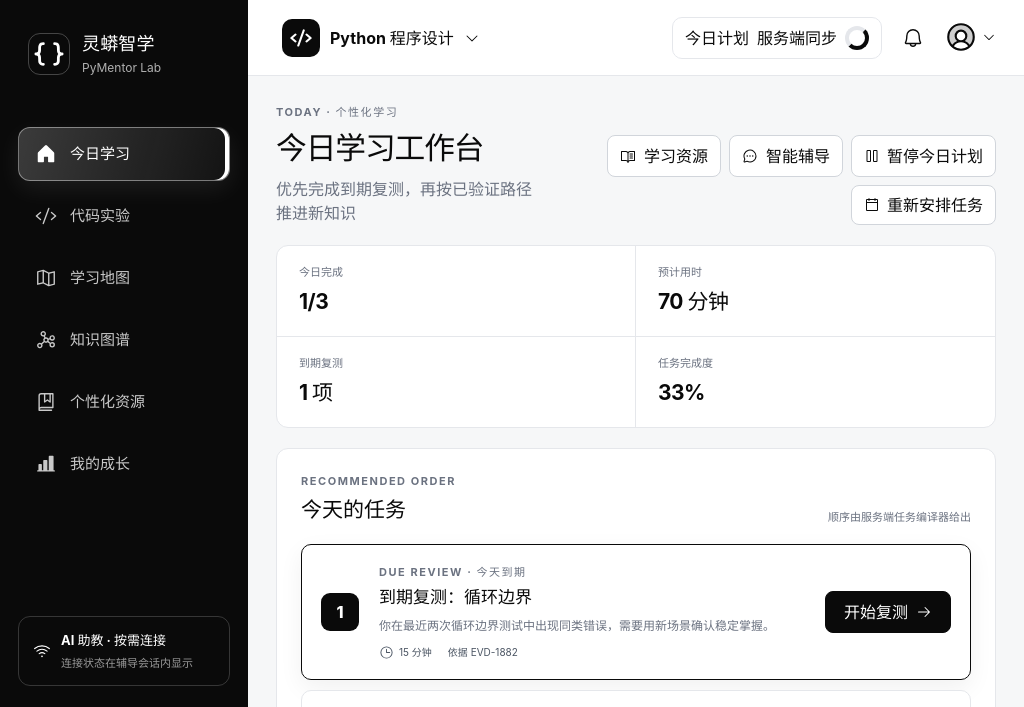
Test: student header button wiring (Stage C) › signs out and returns to the login page
Click the button named "打开个人菜单". click: (970, 36)
box: [944,16,996,58]
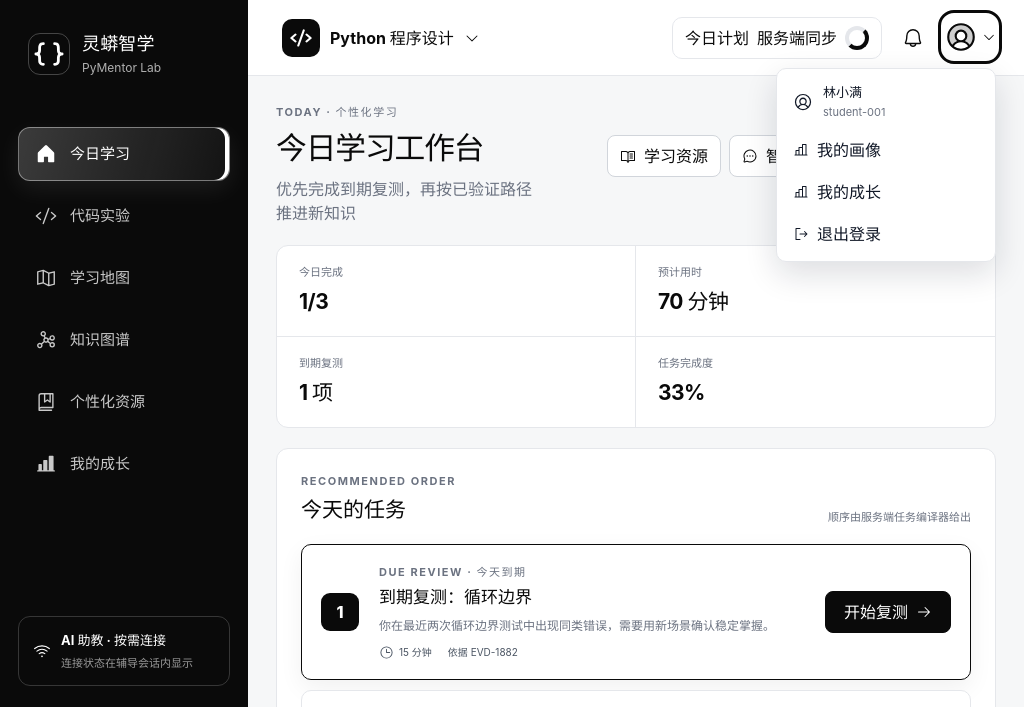
Click the menu item "退出登录". click: (886, 234)
box: [783,212,989,254]
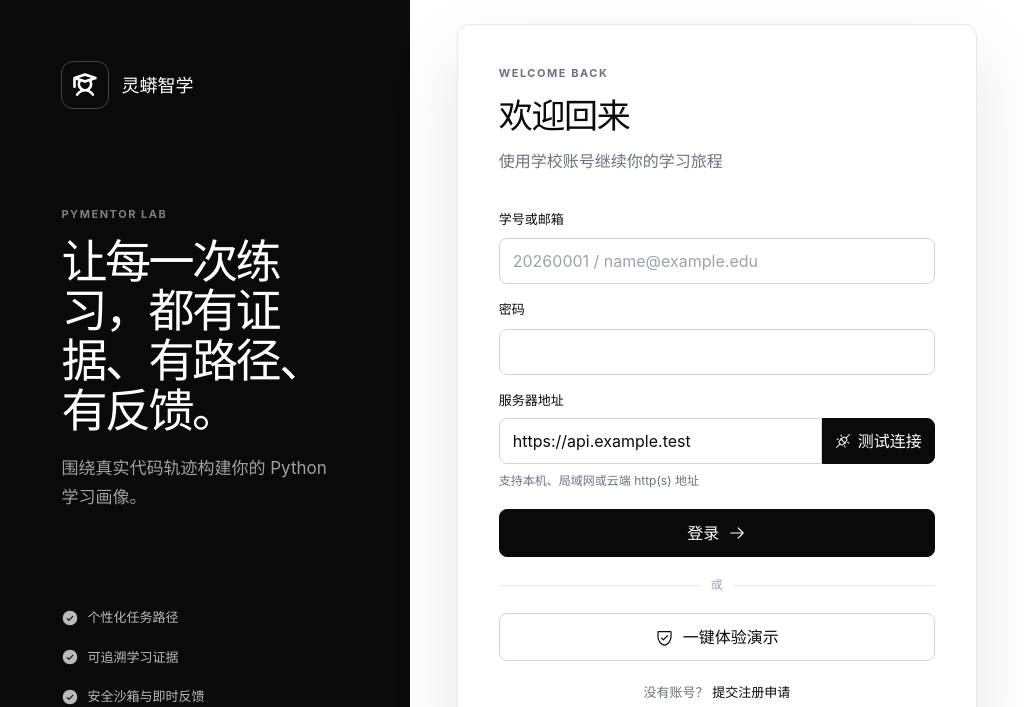
Expected: the heading "欢迎回来" is shown, [499,95,629,136]
